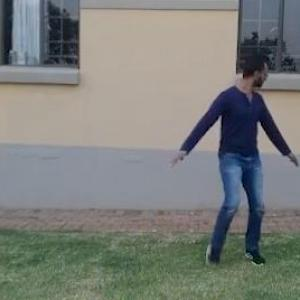land: (171, 38, 300, 270)
